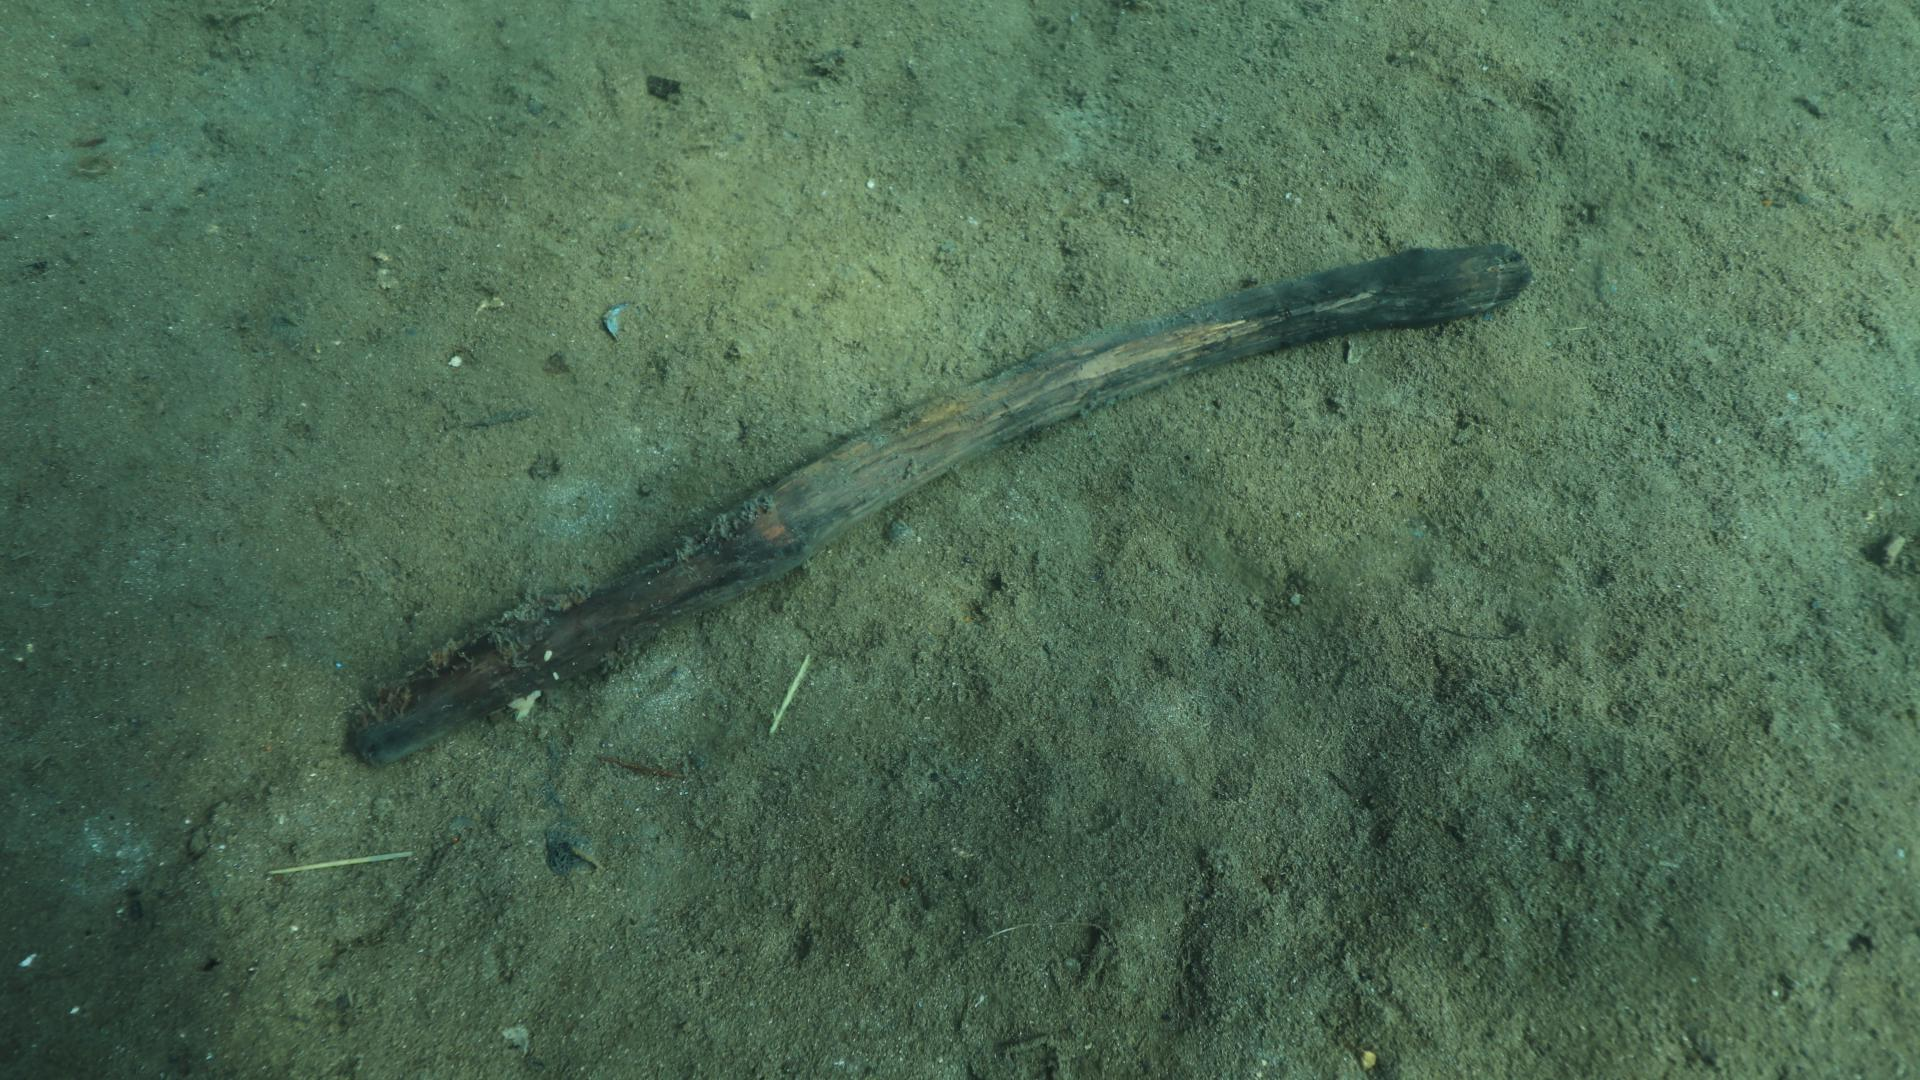wood: (345, 240, 1532, 769)
